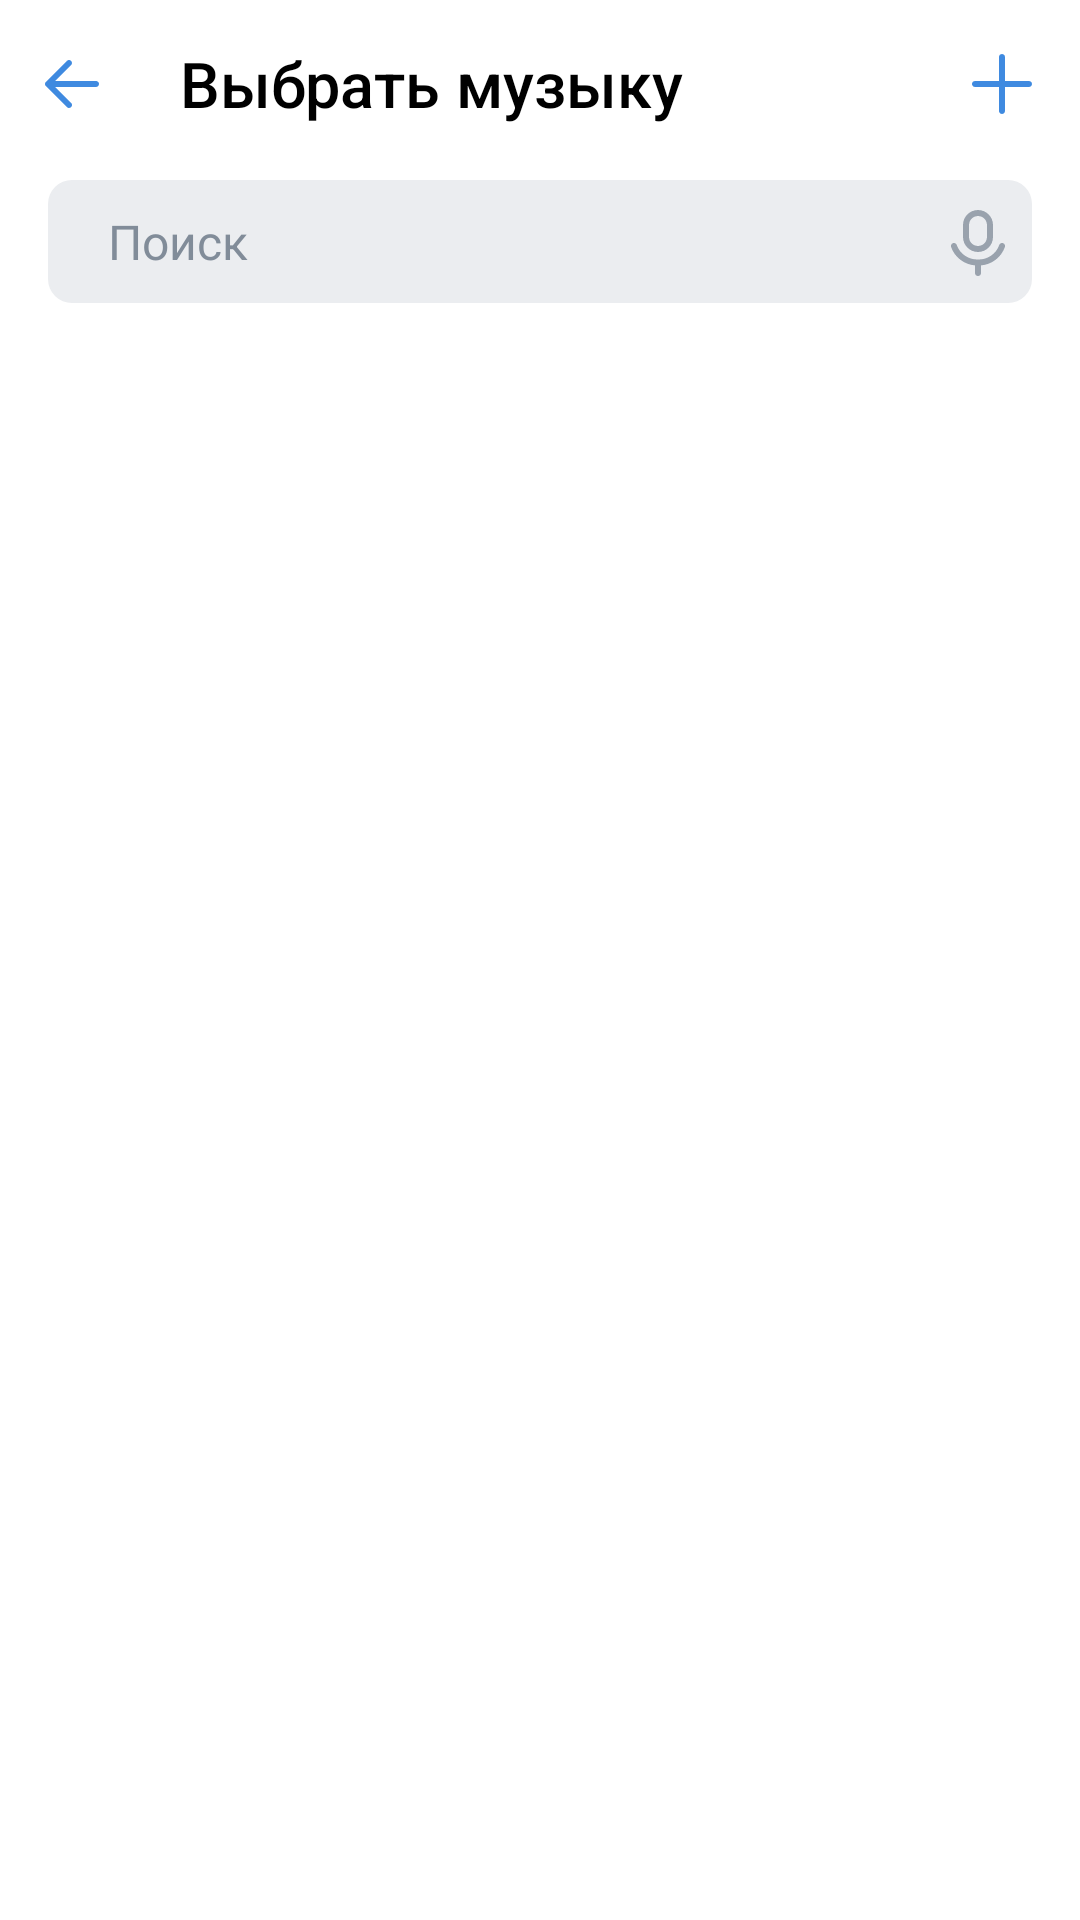

Where icons sit on this 1080 × 1920 app screen, as (x1,y1,x2,y2):
add: (972,54,1032,114)
back: (45,60,99,108)
voice: (951,210,1005,276)
